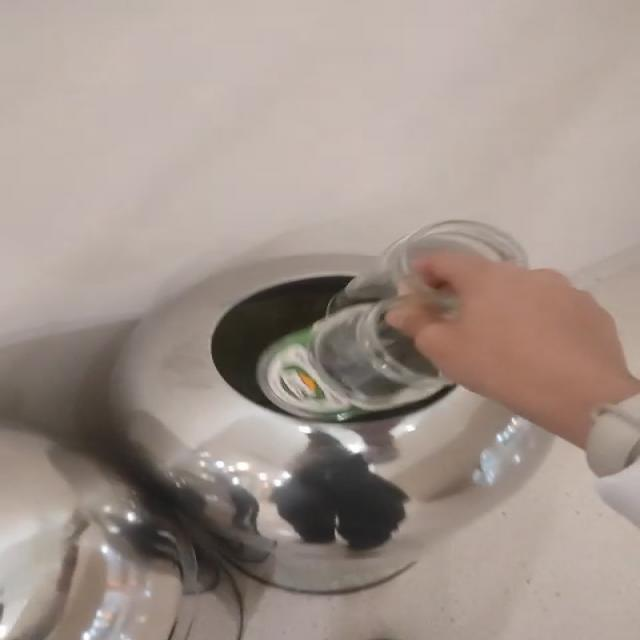Glass: (256, 220, 528, 422)
